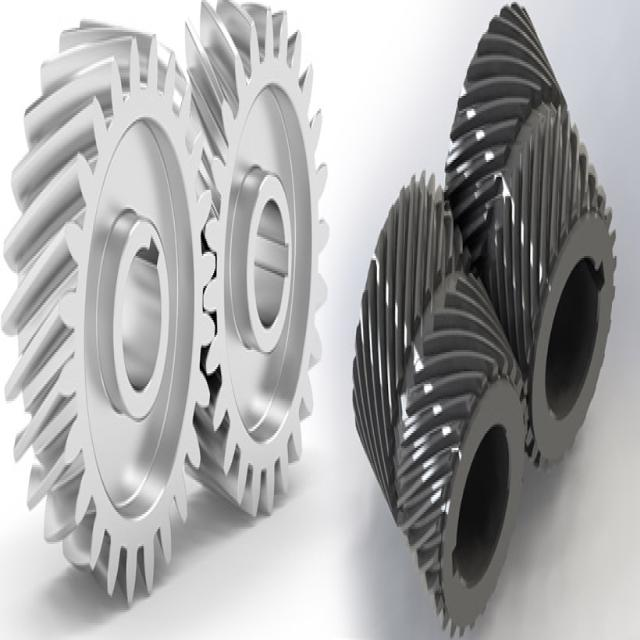Gear: (1, 16, 218, 606), (350, 170, 532, 640), (443, 2, 620, 482), (182, 0, 332, 529)
